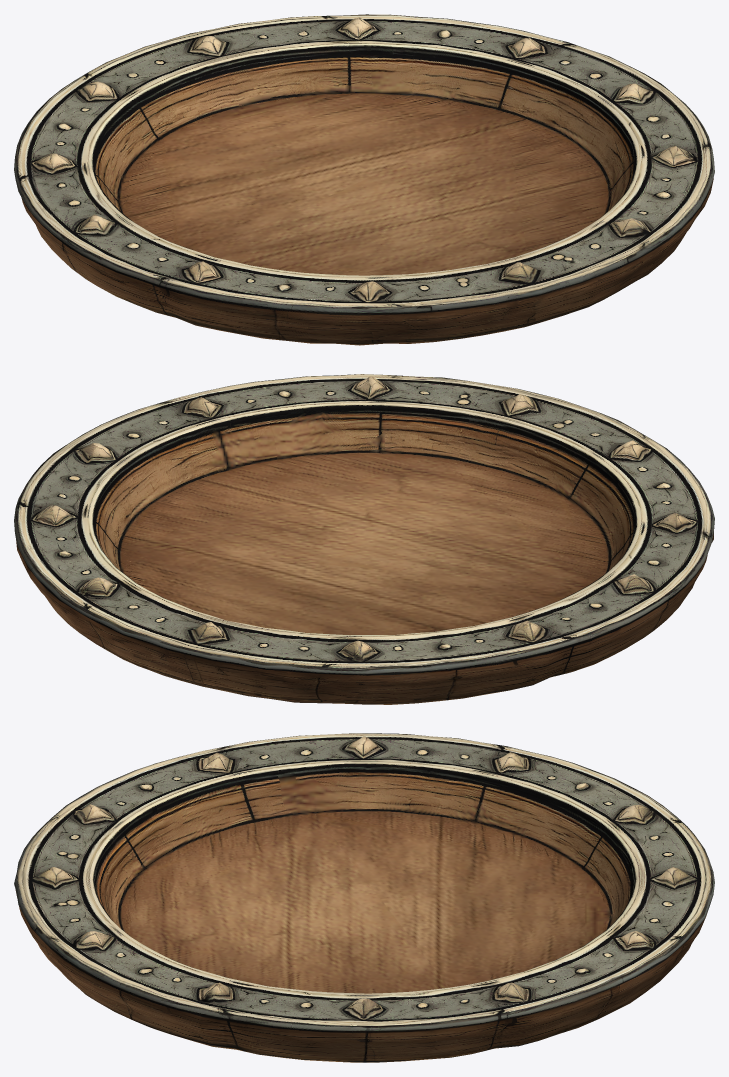
The model's file is plate.fbx.
The picture shows the model from 3 angles, top to bottom: view 1: azimuth 30°, elevation 25°; view 2: azimuth 150°, elevation 25°; view 3: azimuth 270°, elevation 25°; orthographic projection.
Visible parts, largest first — view 1: Mesh_0.012; view 2: Mesh_0.012; view 3: Mesh_0.012.
Part boxes in pixels (<box>): Mesh_0.012: <box>14,14,714,345</box>; Mesh_0.012: <box>14,374,714,704</box>; Mesh_0.012: <box>14,733,714,1062</box>.
Bounding box in the file's own units: 37.96 × 3.91 × 38.12.
Materials: 1 (1 with a texture image).
